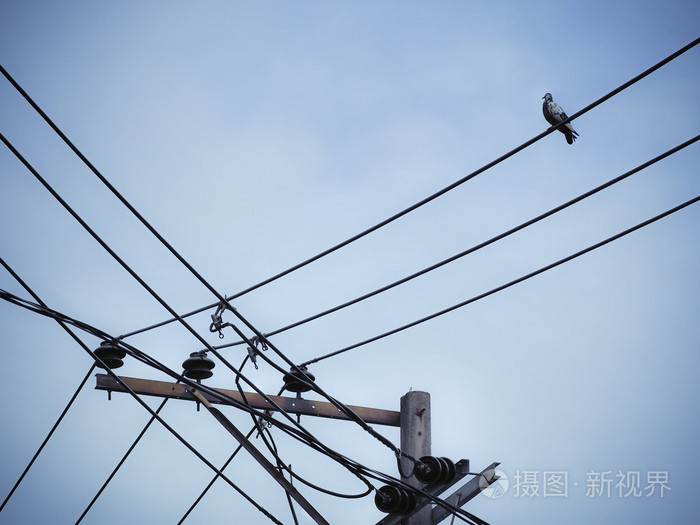insulator: (372, 484, 420, 515), (412, 455, 457, 486), (282, 367, 324, 395), (179, 354, 223, 379), (90, 345, 126, 370)
